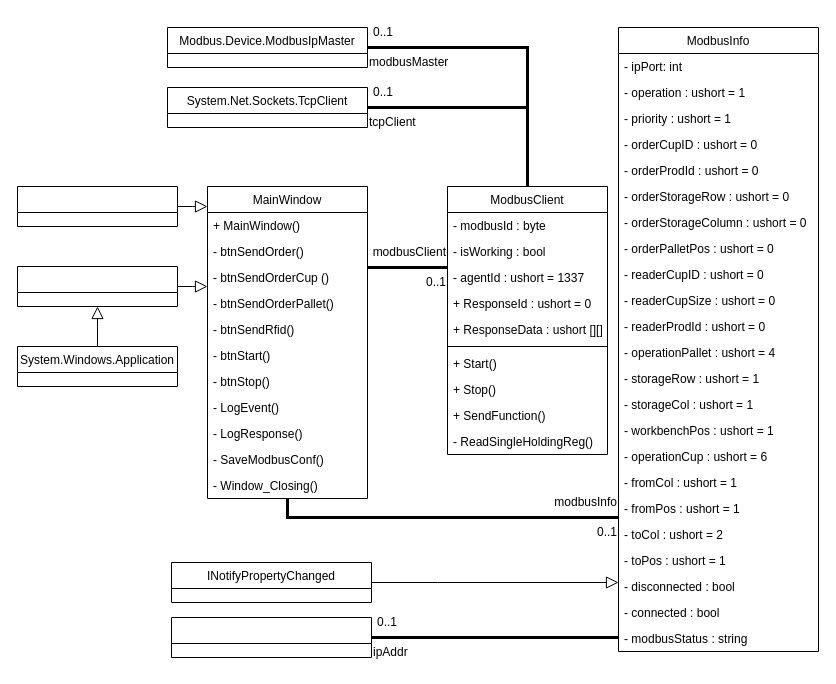
Some shapes in this 836 by 684 pixel diagram are drawn without their labels. The box of each missing label's shape, as (x1, y1, x2, y2) in pixels:
App: (16, 266, 178, 306)
System.Net.IpAddress: (170, 616, 372, 658)
System.Windows.Window: (16, 186, 178, 226)
